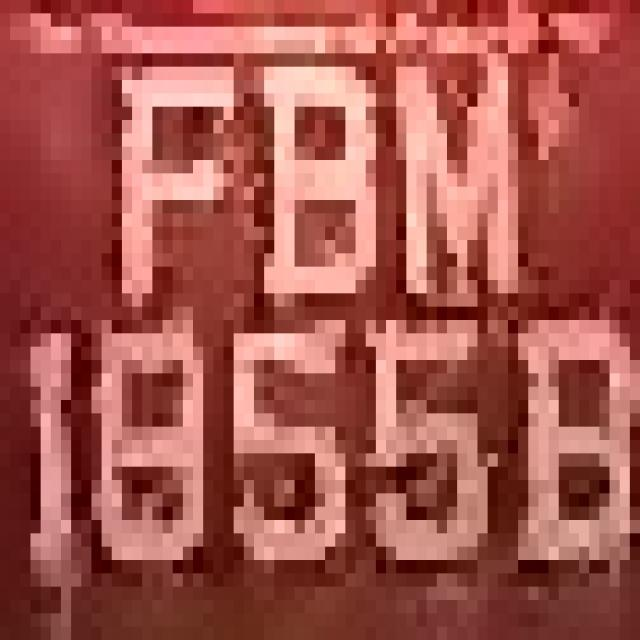1: (30, 306, 81, 586)
5: (214, 280, 336, 600), (356, 307, 488, 573)
8: (81, 306, 234, 586)
B: (508, 320, 630, 627), (234, 80, 376, 320)
F: (102, 40, 213, 320)
M: (376, 40, 518, 307)
